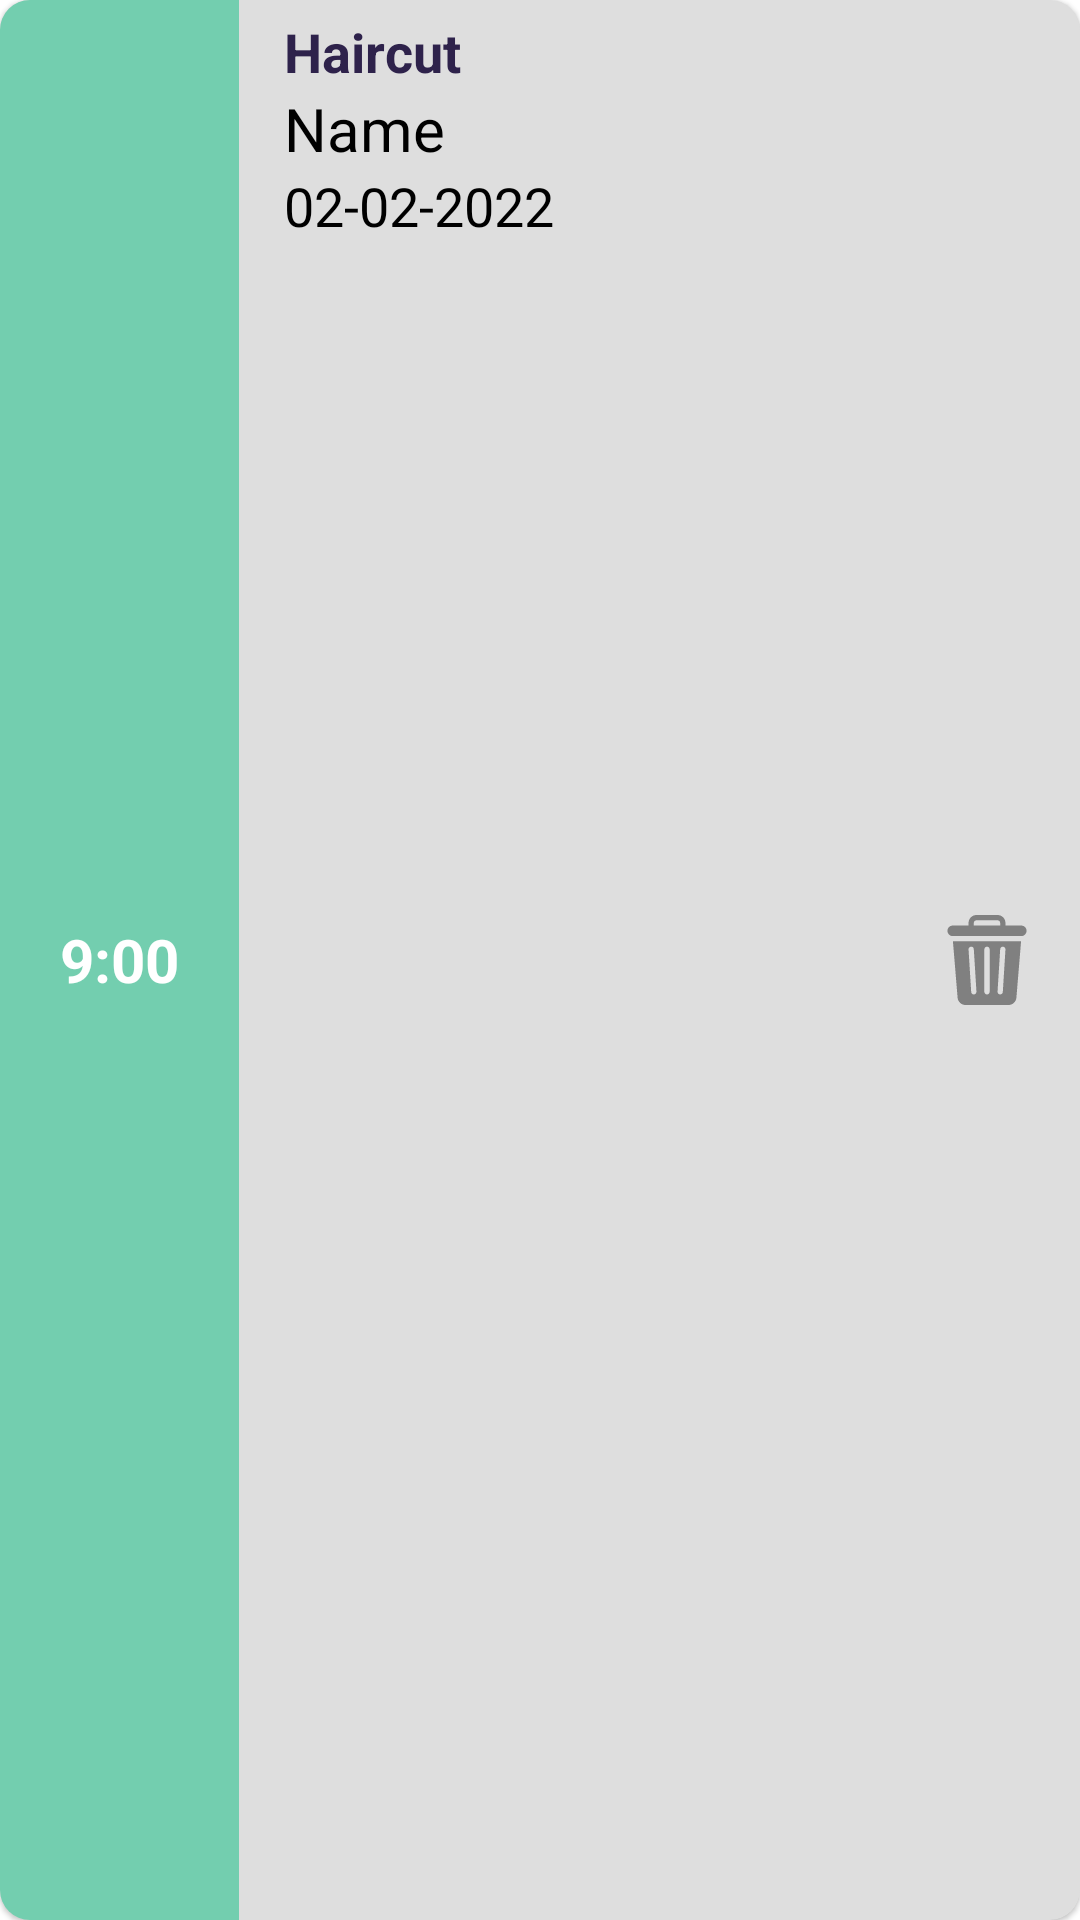

Icon click points for this 1080 × 1920 phone screenshot, format point (x, y):
delete: point (987, 960)
